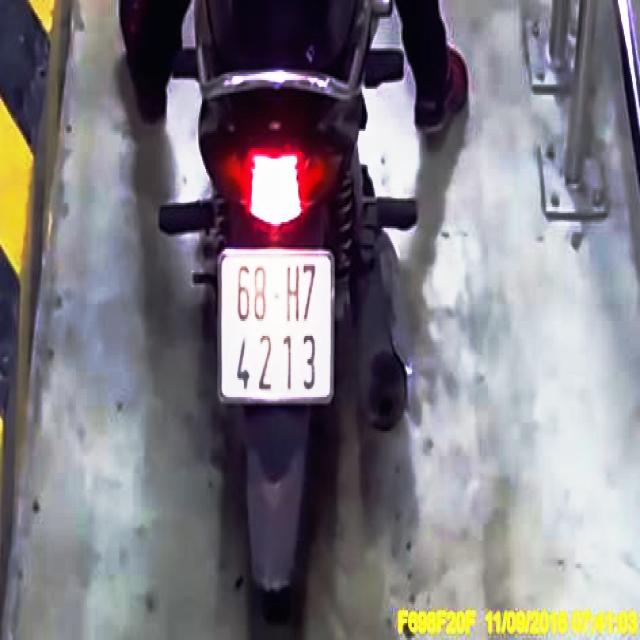license_plate: (219, 251, 335, 401)
